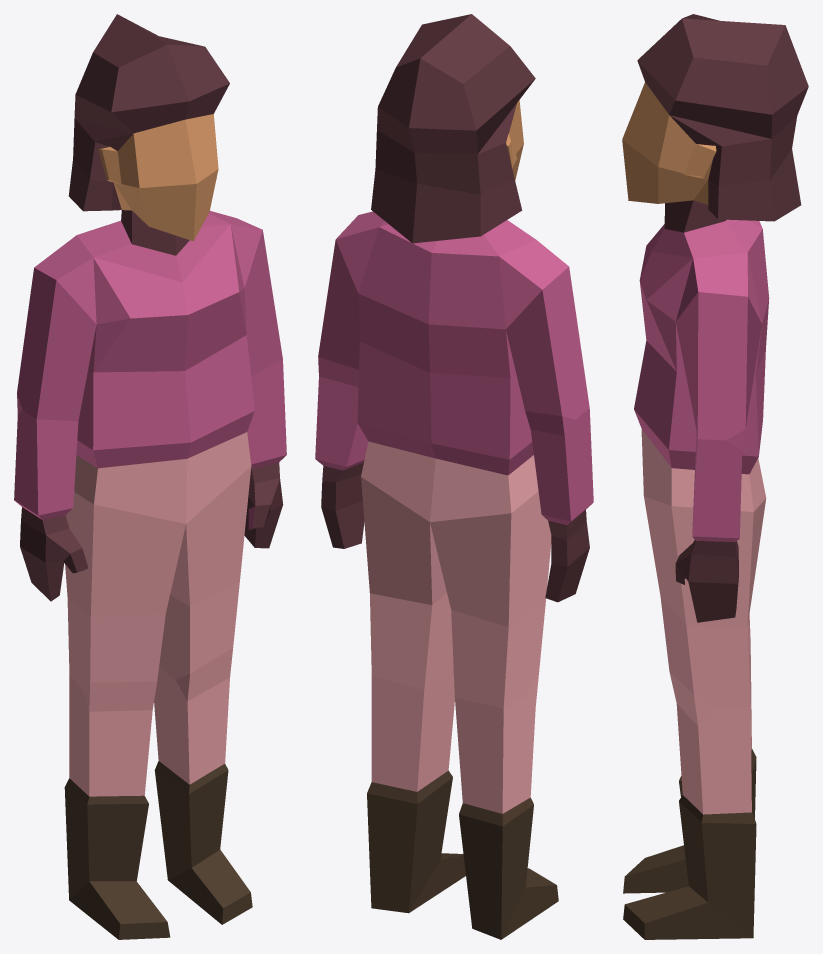
File: girl-winter.fbx
3 renders of one model, left to right at view 1: azimuth 30°, elevation 25°; view 2: azimuth 150°, elevation 25°; view 3: azimuth 270°, elevation 25°, orthographic. The views are drawn at different scales.
Parts seen in each view (by area): view 1: girl-winter; view 2: girl-winter; view 3: girl-winter.
Boxes of the visible parts, box(x1,y1,x2,y2) form: girl-winter: box(14, 14, 286, 939); girl-winter: box(315, 14, 593, 939); girl-winter: box(622, 14, 808, 939).
Size of the model in its own units: 0.3404 by 1.12 by 0.2142.
